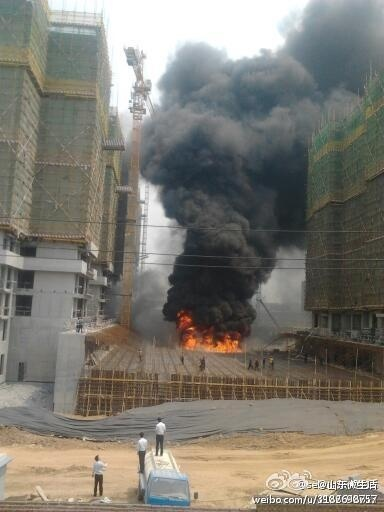fire: (174, 309, 247, 354)
